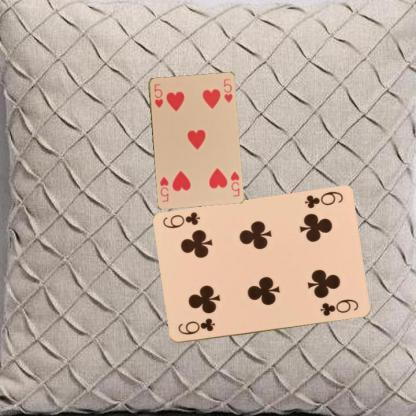5h: (151, 81, 164, 109), (228, 168, 240, 198)
6c: (302, 189, 344, 210), (175, 316, 216, 336)
